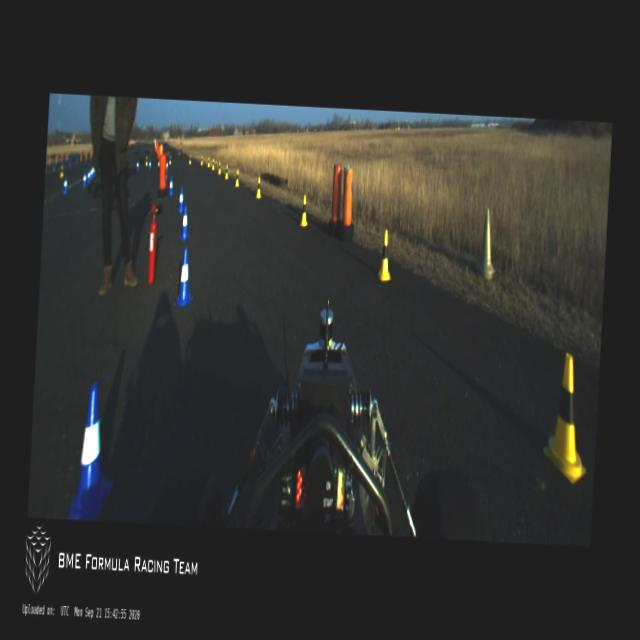blue_cone: (67, 380, 119, 521), (173, 246, 196, 308), (180, 206, 190, 242), (178, 186, 185, 212), (64, 178, 68, 194), (170, 176, 173, 195), (83, 171, 86, 187), (136, 160, 140, 172), (148, 160, 152, 170), (90, 166, 93, 179), (166, 160, 169, 170), (88, 168, 90, 182), (92, 166, 94, 176)
yellow_cone: (542, 354, 592, 484), (377, 230, 393, 281), (298, 194, 310, 226), (255, 176, 262, 198), (235, 170, 240, 187), (224, 164, 229, 180), (218, 160, 222, 174), (60, 166, 64, 178), (188, 154, 192, 164), (207, 157, 210, 168), (200, 155, 203, 165), (145, 156, 148, 166), (212, 157, 214, 170), (169, 155, 171, 164)
